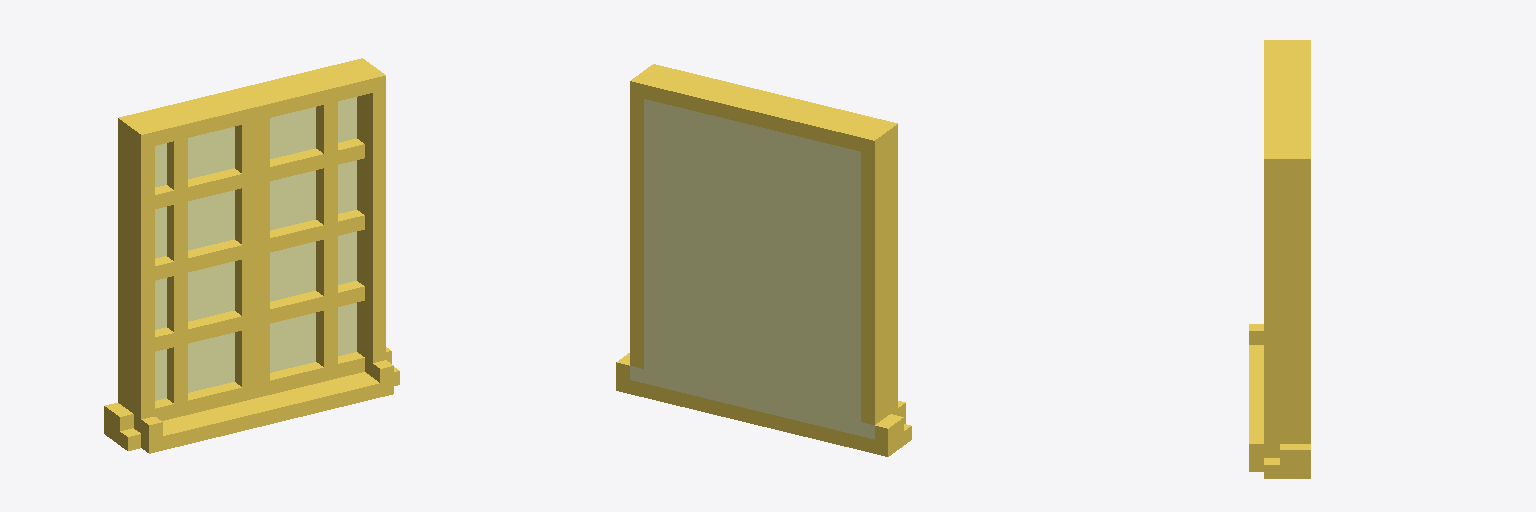
The picture shows the model from 3 angles: view 1: azimuth 30°, elevation 25°; view 2: azimuth 150°, elevation 25°; view 3: azimuth 270°, elevation 25°; orthographic projection.
Parts seen in each view (by area): view 1: object 1; view 2: object 1; view 3: object 1.
Boxes of the visible parts, box(x1,y1,x2,y2) form: object 1: box(104, 58, 399, 453); object 1: box(616, 64, 911, 456); object 1: box(1249, 40, 1310, 478).
Size of the model in its own units: 2 by 2.2 by 0.4.
Materials: 1 (1 with a texture image).